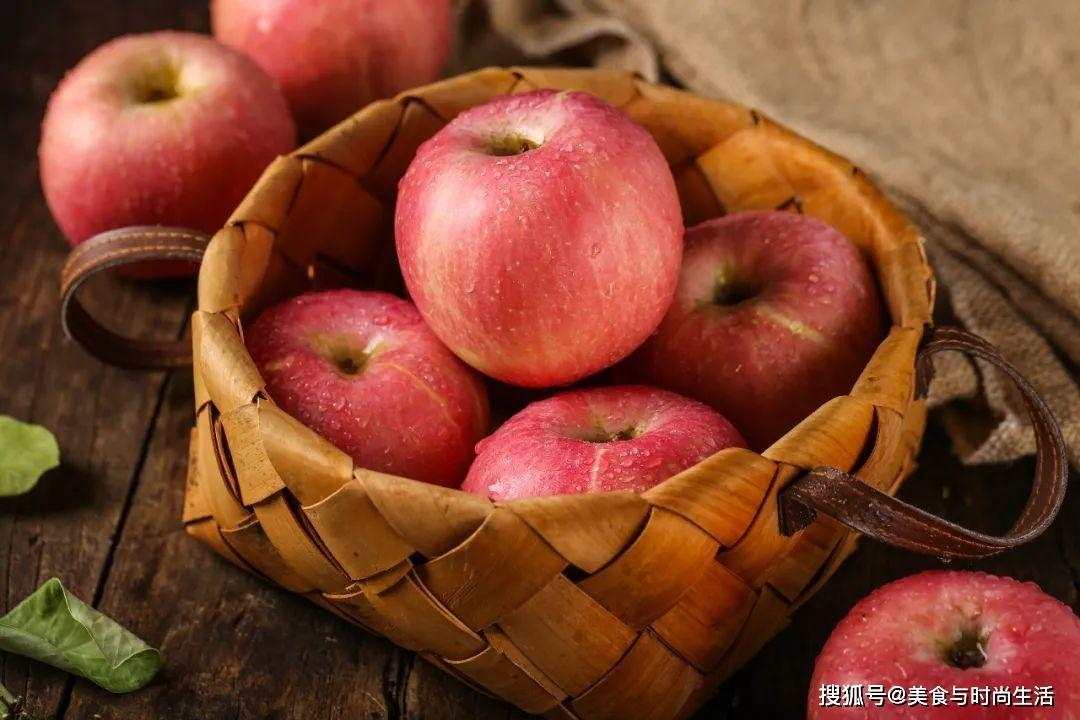apple: (392, 88, 682, 385), (639, 208, 877, 452), (33, 29, 297, 246), (237, 283, 486, 489), (805, 566, 1080, 720), (454, 388, 746, 518)
